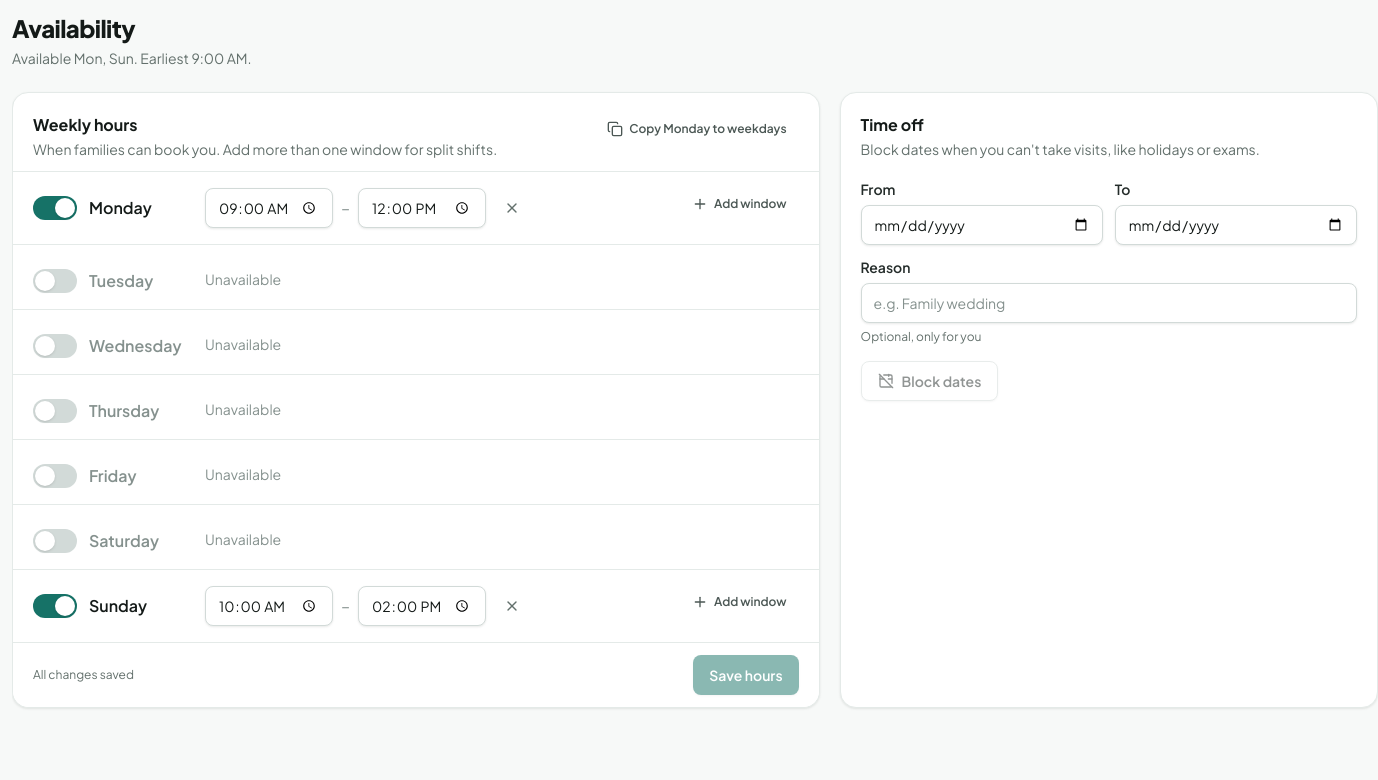
Test case: weekly availability editor › rejects an end time before the start time
Replace the text in the time field named "Monday window 1 end" with "08:00" at point(422, 208), box [358,188,486,228]
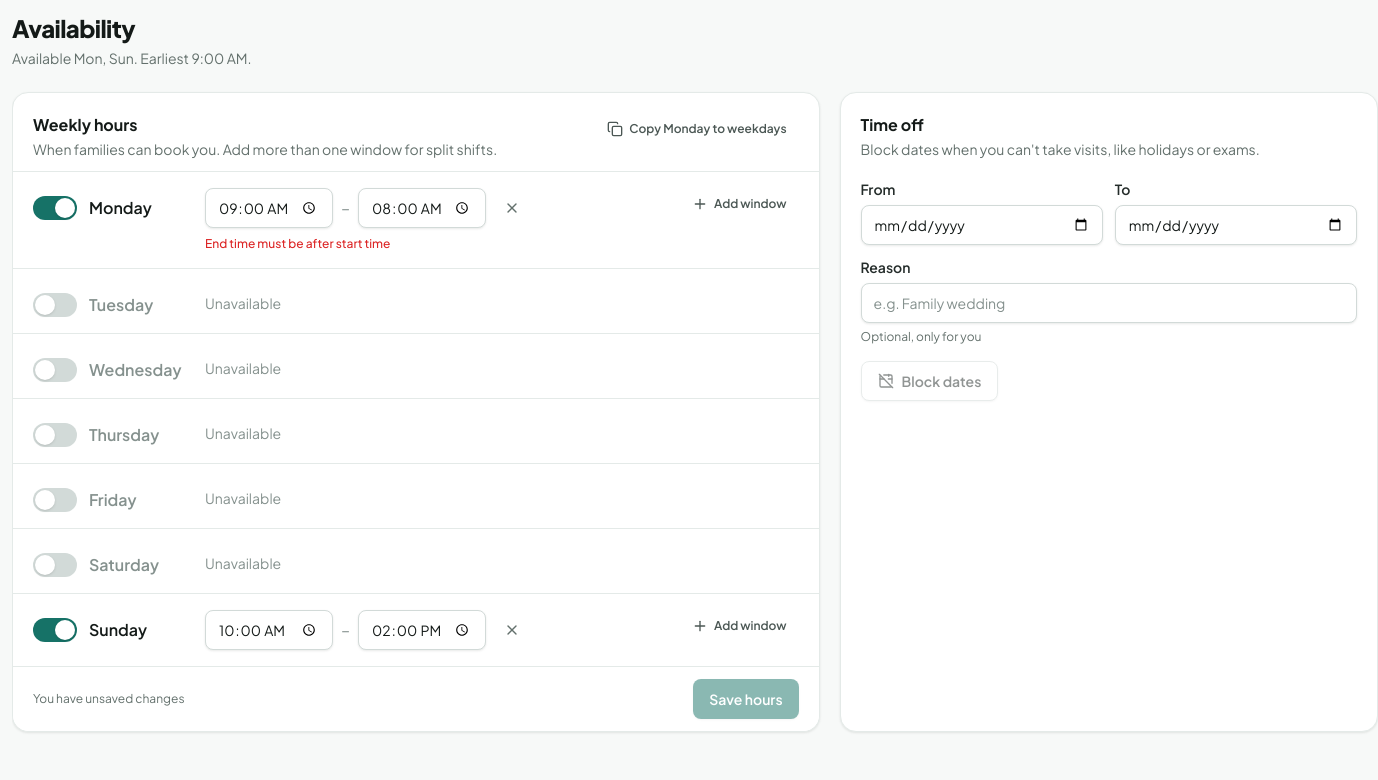
expect the button "Save hours" is disabled: met, box [693,679,799,719]
expect the text "End time must be after start time" is shown: met, box [205,236,390,251]
